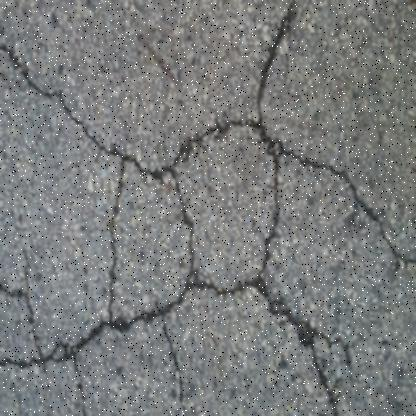Cracks: (0, 0, 415, 282), (0, 273, 345, 416)
